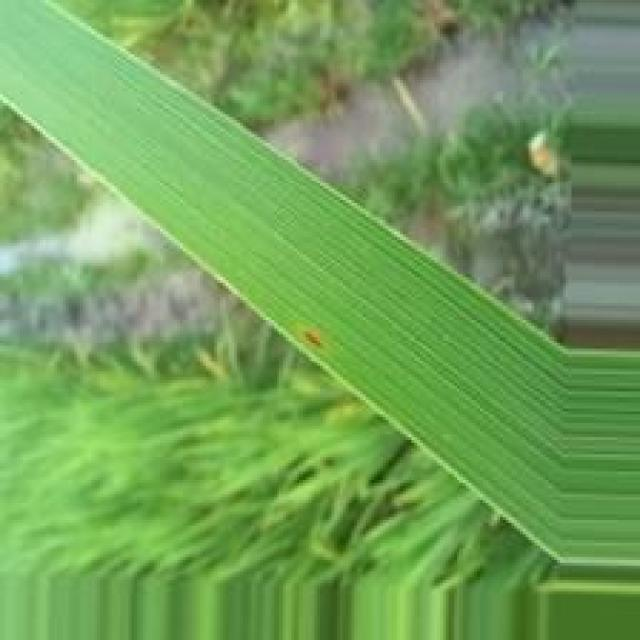Brown_Spot: (299, 327, 326, 353)
